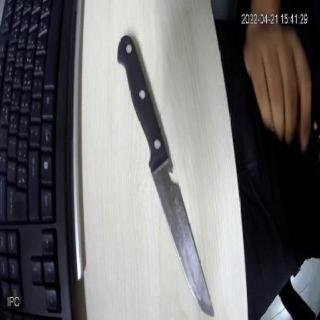knife: (114, 33, 220, 320)
